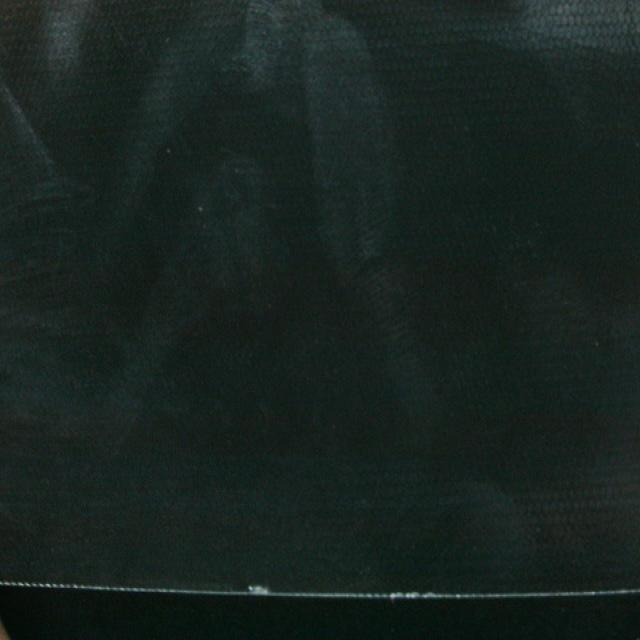edge_chip: (382, 588, 456, 605), (242, 577, 276, 603)
